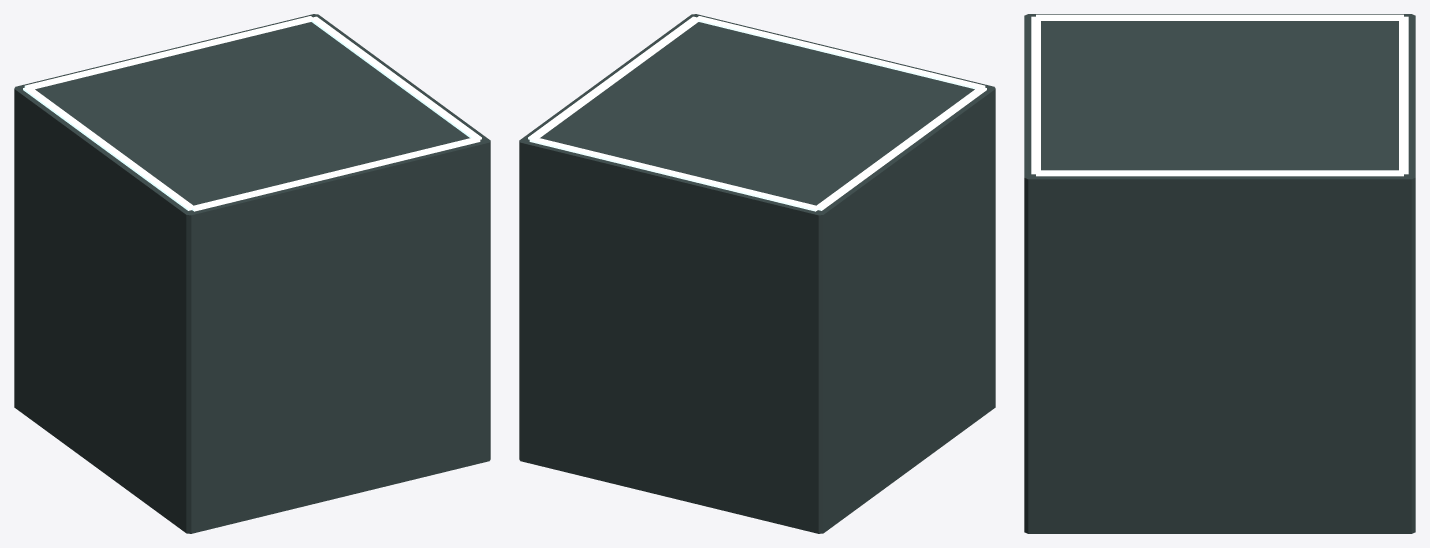
Rendered from floor_tile.glb.
3 views of the same model, side by side, from view 1: azimuth 30°, elevation 25°; view 2: azimuth 150°, elevation 25°; view 3: azimuth 270°, elevation 25° (orthographic). The views are drawn at different scales.
Visible parts, largest first — view 1: floor_tile; view 2: floor_tile; view 3: floor_tile.
Boxes of the visible parts, left/top/right/bottom form: floor_tile: left=14, top=14, right=490, bottom=533; floor_tile: left=519, top=14, right=995, bottom=533; floor_tile: left=1024, top=14, right=1415, bottom=533.
Bounding box in the file's own units: 2 × 2.01 × 2.
